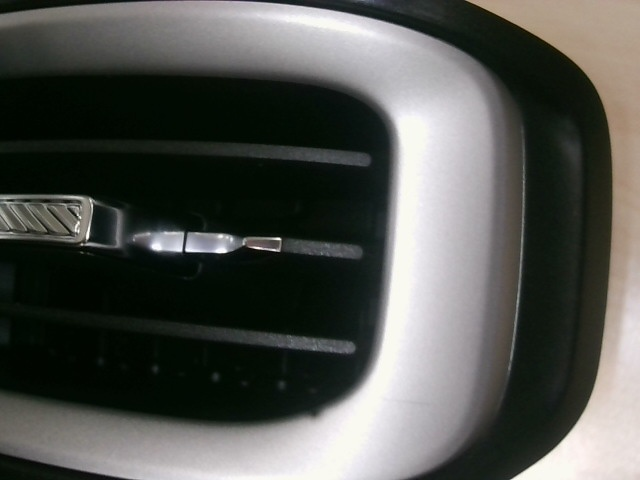NG: (368, 379, 464, 436)
